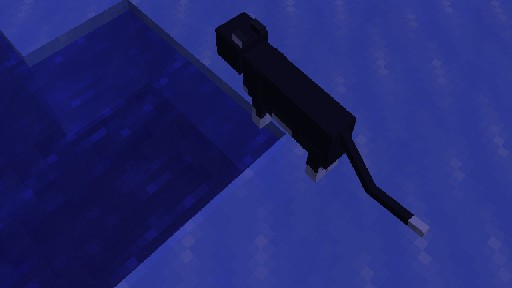cat: (214, 11, 429, 238)
